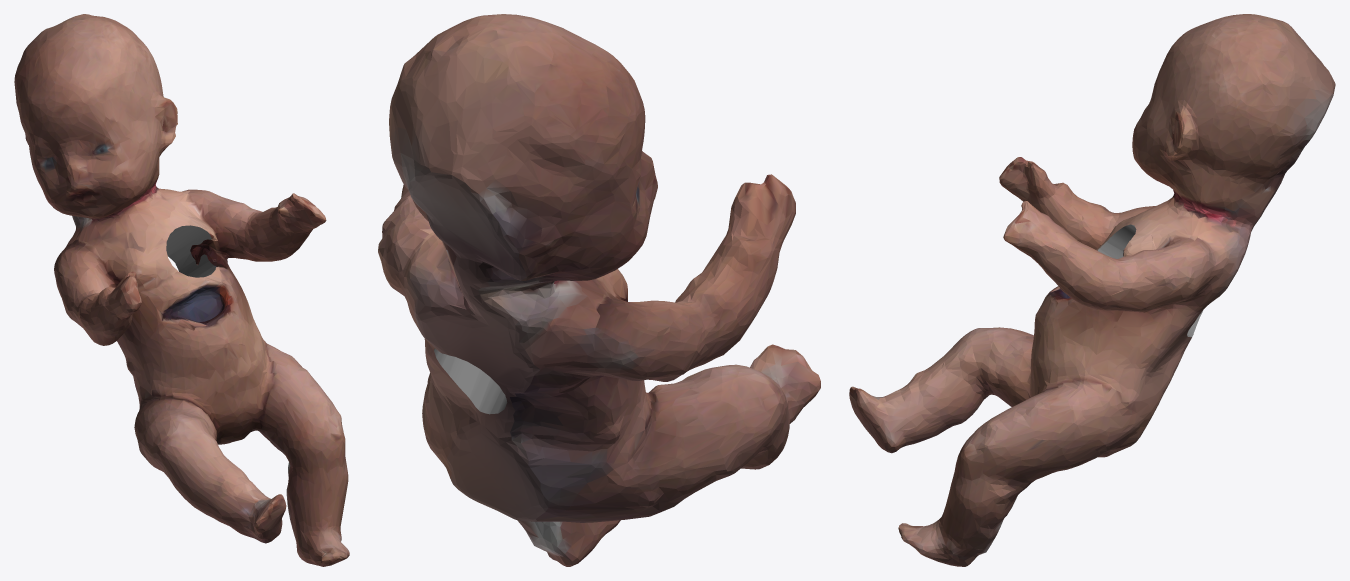
The model's file is bb_entrada.obj.
3 views of the same model, side by side, from view 1: azimuth 30°, elevation 25°; view 2: azimuth 150°, elevation 25°; view 3: azimuth 270°, elevation 25° (orthographic). The views are drawn at different scales.
Parts seen in each view (by area): view 1: model_mesh:Mesh1; view 2: model_mesh:Mesh1; view 3: model_mesh:Mesh1.
Boxes of the visible parts, x1=… form: model_mesh:Mesh1: x1=14, y1=14, x2=349, y2=566; model_mesh:Mesh1: x1=378, y1=14, x2=820, y2=566; model_mesh:Mesh1: x1=849, y1=14, x2=1335, y2=566.
Size of the model in its own units: 1.71 by 3.54 by 3.15.
Materials: 2 (1 with a texture image).
